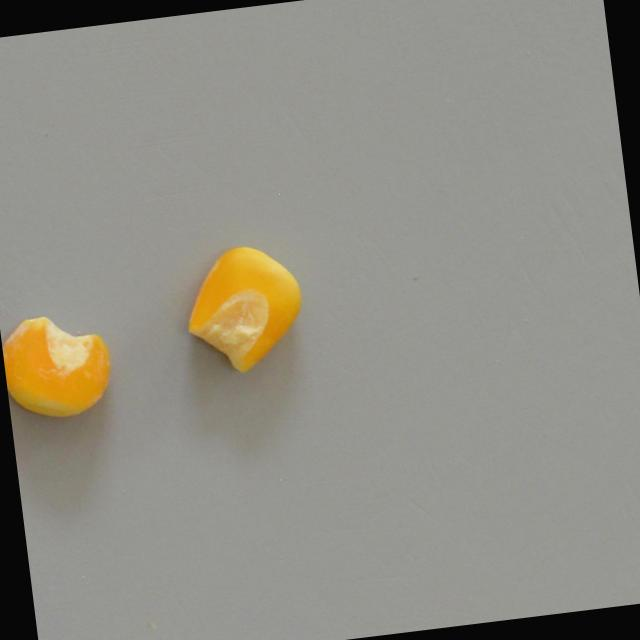no_desgerminado: (176, 239, 311, 381)
pelicula: (0, 304, 119, 430)
